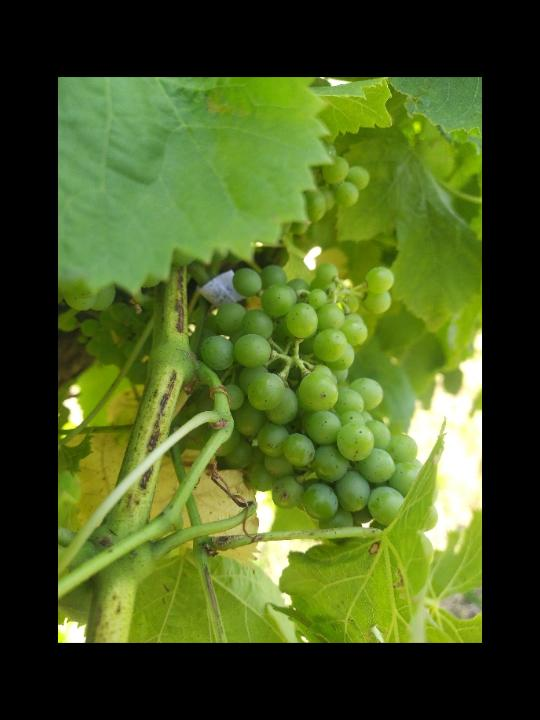grape: (178, 264, 438, 563)
